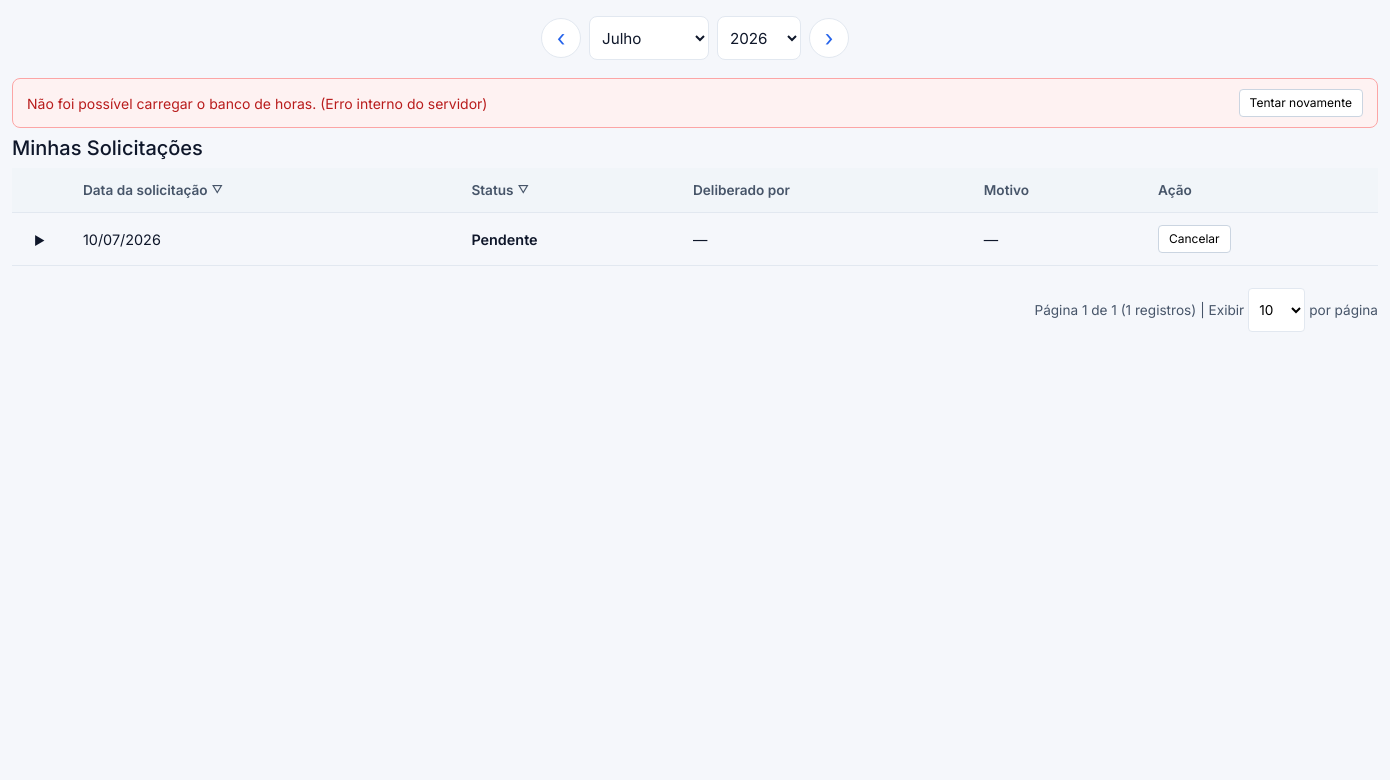
Test: BancoHorasPessoalComponent › render dos estados de erro e de recarga › o clique real no "Tentar novamente" recarrega e devolve o card
Click the button "Tentar novamente": (1301, 103) [1239,89,1363,117]
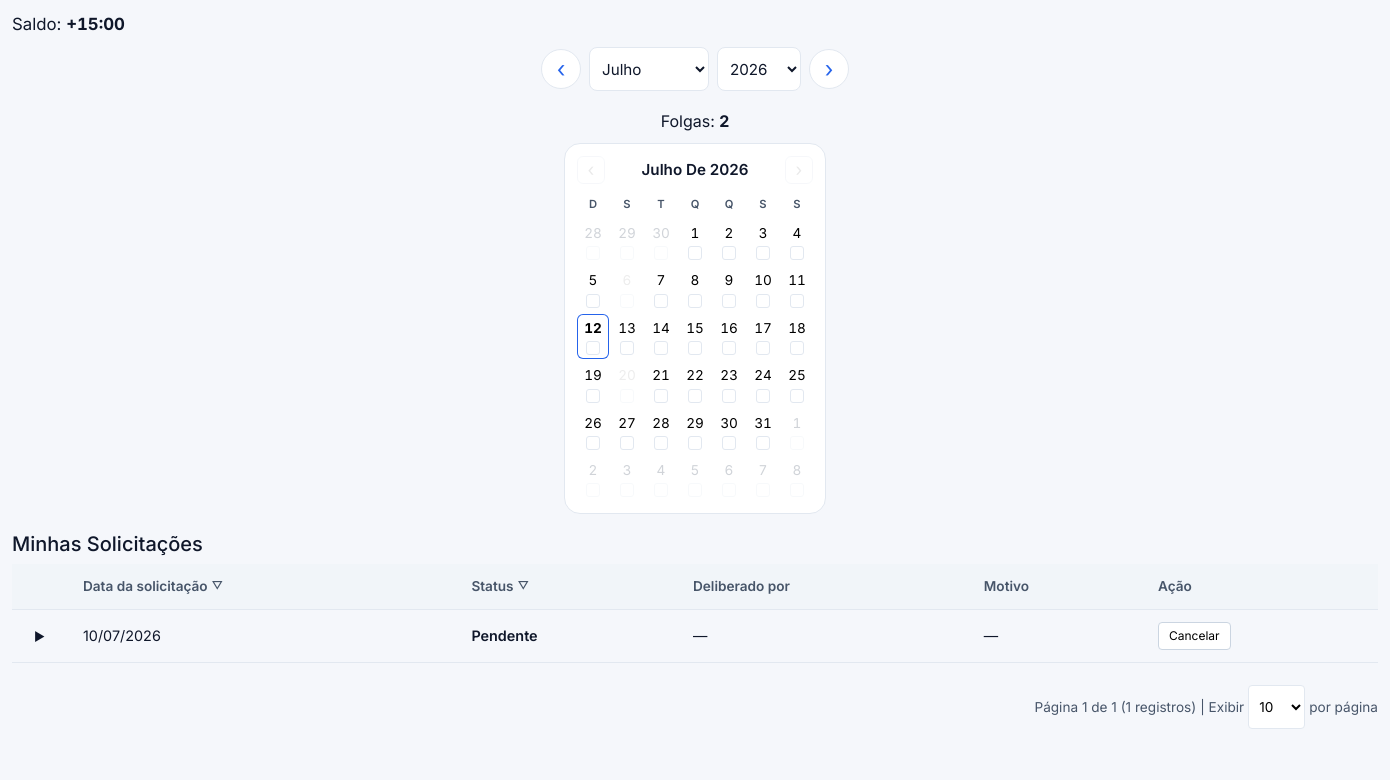
Expected: the text "+15:00" is shown, [66,14,125,34]
